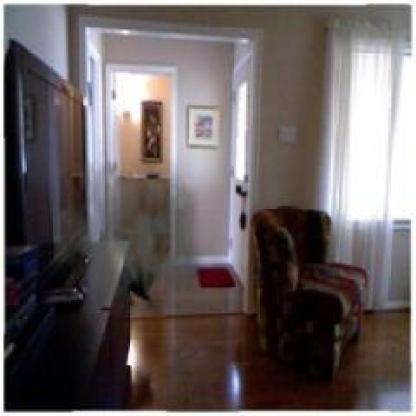Smoke: (53, 138, 209, 315)
